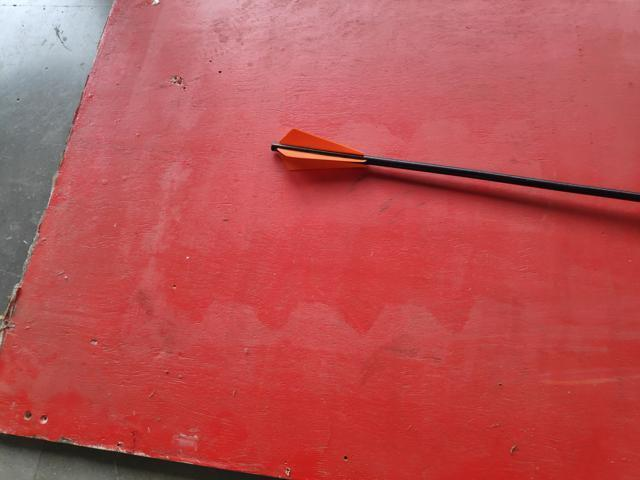Tail: (267, 125, 371, 172)
